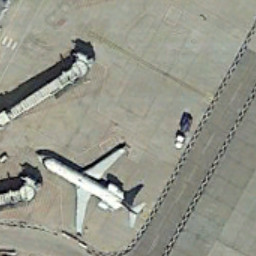Airplane: (27, 138, 163, 235)
